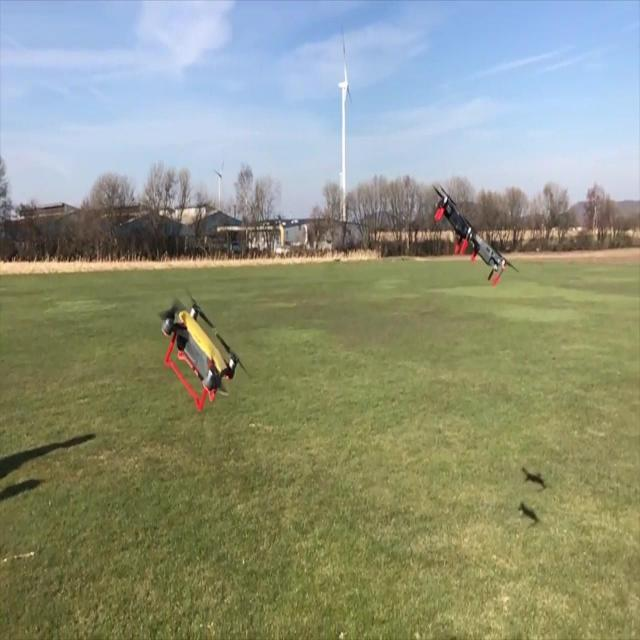UAV: (158, 292, 250, 412), (432, 182, 476, 254), (464, 232, 520, 286)
